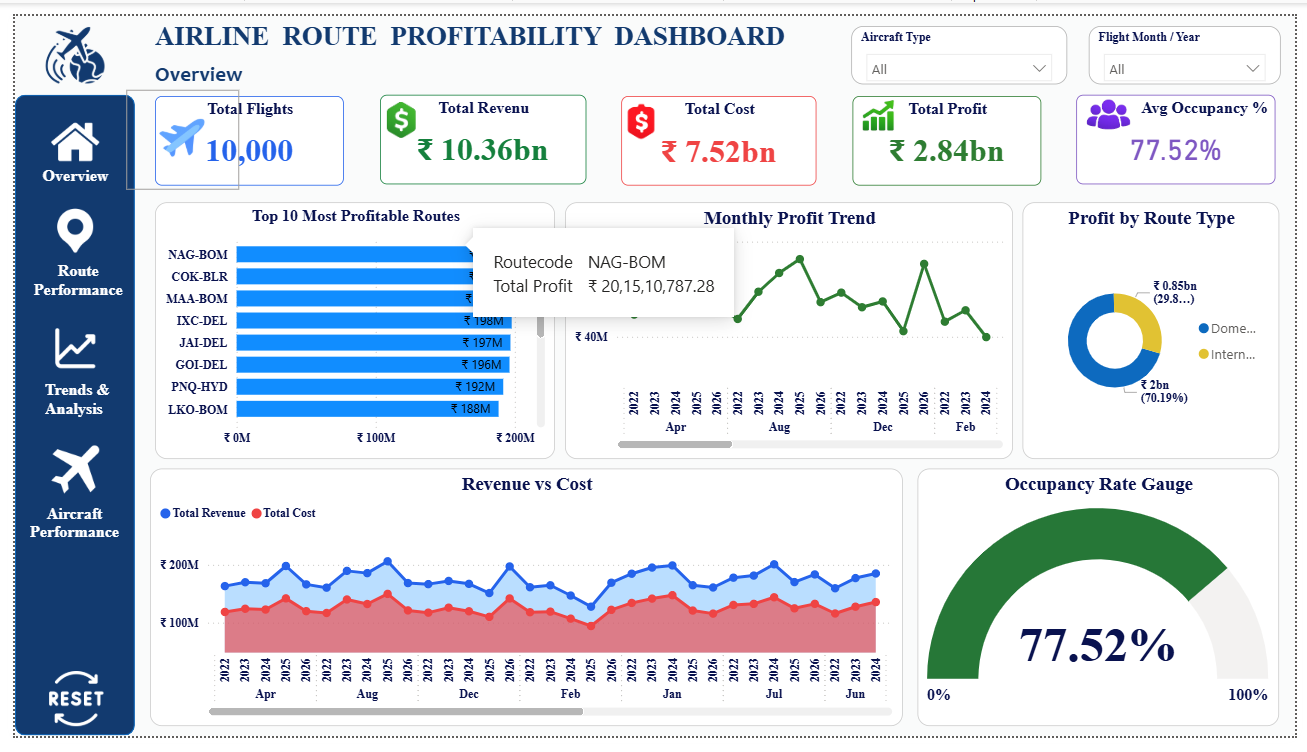

The dashboard page shown, as its layout file describes it:
{"tool":"powerbi","page":{"name":"Overview","canvas":[1280,720],"ordinal":0},"visuals":[{"type":"shape","box":[0,79.4,119.7,640.6],"z":0},{"type":"card","title":"Total Flights","fields":{"Values":["Measure.Total Flights"]},"box":[139.9,79.8,189,89.5],"z":1000},{"type":"card","title":"Total Revenu","fields":{"Values":["Measure.Total Revenue"]},"box":[364.6,79.3,206.1,89.9],"z":2000},{"type":"card","title":"Total Cost","fields":{"Values":["Measure.Total Cost"]},"box":[606.3,79.5,195.4,89.9],"z":3000},{"type":"card","title":"Total Profit","fields":{"Values":["Measure.Total Profit"]},"box":[837.3,79.5,189,89.5],"z":4000},{"type":"card","title":"Avg Occupancy %","fields":{"Values":["Measure.Avg Occupancy %"]},"box":[1061.9,79.1,199,89.9],"z":5000},{"type":"clusteredBarChart","title":"Top 10 Most Profitable Routes","fields":{"Category":["AirlineRoutesData.Routecode"],"Y":["Measure.Total Profit"]},"box":[140.2,185.8,400.3,256.5],"z":6000},{"type":"lineChart","title":"Monthly Profit Trend","fields":{"Category":["AirlineRoutesData.Flightdate Hierarchy.Month","AirlineRoutesData.Flightdate Hierarchy.Year"],"Y":["Measure.Total Profit"]},"box":[550.1,185.8,448.2,256.5],"z":7000},{"type":"lineChart","title":"Revenue vs Cost ","fields":{"Category":["AirlineRoutesData.Flightdate Hierarchy.Month","AirlineRoutesData.Flightdate Hierarchy.Year"],"Y":["Measure.Total Revenue","Measure.Total Cost"]},"box":[135,452.5,752.5,257.5],"z":8000},{"type":"gauge","title":"Occupancy Rate Gauge","fields":{"Y":["Measure.Avg Occupancy %"]},"box":[902.5,452.5,361.2,257.5],"z":9000},{"type":"donutChart","title":"Profit by Route Type","fields":{"Category":["AirlineRoutesData.Route Type"],"Y":["Measure.Total Profit"]},"box":[1007.9,185.8,256.5,256.5],"z":10000},{"type":"textbox","box":[135.4,0,662.8,49.1],"z":11000},{"type":"image","box":[17.5,10,85,58.8],"z":12000},{"type":"textbox","box":[135.4,39.6,193,38.4],"z":13000},{"type":"slicer","title":"Aircraft Type","fields":{"Values":["AirlineRoutesData.Aircrafttype"]},"box":[836.6,9.6,215.7,58.7],"z":14000},{"type":"slicer","title":"Flight Month / Year","fields":{"Values":["AirlineRoutesData.Month Year"]},"box":[1073.9,9.6,191.8,58.7],"z":15000},{"type":"image","box":[111.5,74.3,112.7,99.5],"z":16000},{"type":"image","box":[562.1,49.1,133,116.3],"z":17000},{"type":"image","box":[810.2,49.1,110.3,91.1],"z":18000},{"type":"image","box":[1052.3,43.1,83.9,103.1],"z":19000},{"type":"image","box":[340.4,58.7,95.9,98.3],"z":20000},{"type":"image","box":[36,98.3,47.9,53.9],"z":21000},{"type":"image","box":[36,187,47.9,53.9],"z":22000},{"type":"image","box":[36,305.6,47.9,53.9],"z":23000},{"type":"image","box":[36,426.7,47.9,53.9],"z":24000},{"type":"textbox","box":[13.2,146.2,93.5,40.7],"z":25000},{"type":"textbox","box":[13.2,240.9,103.1,50.3],"z":26000},{"type":"textbox","box":[25.2,359.6,86.3,57.5],"z":27000},{"type":"textbox","box":[9.6,484.2,103.1,65.9],"z":28000},{"type":"image","box":[32.4,655.6,57.5,55.1],"z":28001}]}

Visuals, with their boxes in screenshot pixels (x1, y1, x2, y2), scaled from the page's 1280x720 canvas onto the 1307x752 screenshot:
shape: (0,83,122,751)
"Total Flights" card: (143,83,336,177)
"Total Revenu" card: (372,83,583,177)
"Total Cost" card: (619,83,819,177)
"Total Profit" card: (855,83,1048,177)
"Avg Occupancy %" card: (1084,83,1287,177)
"Top 10 Most Profitable Routes" clusteredBarChart: (143,194,552,462)
"Monthly Profit Trend" lineChart: (562,194,1019,462)
"Revenue vs Cost " lineChart: (138,473,906,742)
"Occupancy Rate Gauge" gauge: (922,473,1290,742)
"Profit by Route Type" donutChart: (1029,194,1291,462)
textbox: (138,0,815,51)
image: (18,10,105,72)
textbox: (138,41,335,81)
"Aircraft Type" slicer: (854,10,1074,71)
"Flight Month / Year" slicer: (1097,10,1292,71)
image: (114,78,229,182)
image: (574,51,710,173)
image: (827,51,940,146)
image: (1074,45,1160,153)
image: (348,61,446,164)
image: (37,103,86,159)
image: (37,195,86,252)
image: (37,319,86,375)
image: (37,446,86,502)
textbox: (13,153,109,195)
textbox: (13,252,119,304)
textbox: (26,376,114,436)
textbox: (10,506,115,575)
image: (33,685,92,742)
